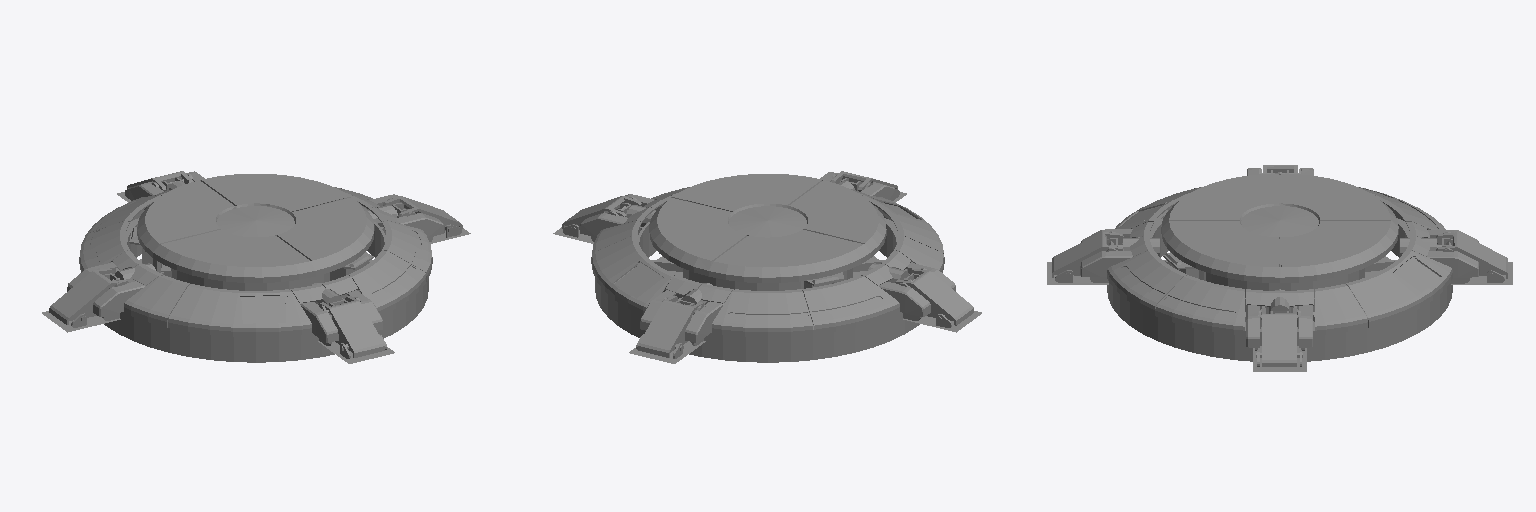
The model's file is portal_button.obj.
3 renders of one model, left to right at view 1: azimuth 30°, elevation 25°; view 2: azimuth 150°, elevation 25°; view 3: azimuth 270°, elevation 25°, orthographic.
Parts seen in each view (by area): view 1: portal_button_reference001; view 2: portal_button_reference001; view 3: portal_button_reference001.
Part boxes in pixels (x1,y1,x2,y2): portal_button_reference001: (42, 171, 470, 363); portal_button_reference001: (553, 171, 981, 363); portal_button_reference001: (1047, 165, 1512, 371).
Bounding box in the file's own units: 317 × 53.34 × 317.